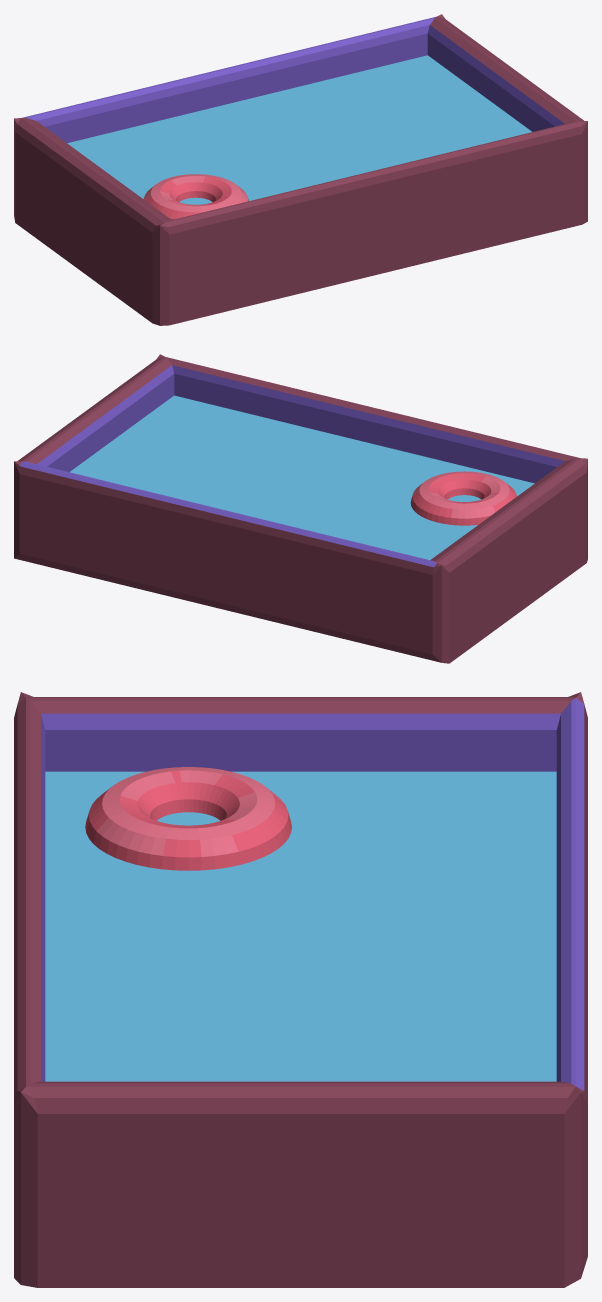
Rendered from Alberca.fbx.
The picture shows the model from 3 angles, top to bottom: view 1: azimuth 30°, elevation 25°; view 2: azimuth 150°, elevation 25°; view 3: azimuth 270°, elevation 25°; orthographic projection. The views are drawn at different scales.
Visible parts, largest first — view 1: Alberca; view 2: Alberca; view 3: Alberca.
Part boxes in pixels (box(x1,y1,x2,y2)): Alberca: box(14, 14, 587, 325); Alberca: box(14, 354, 587, 663); Alberca: box(14, 692, 587, 1287).
Bounding box in the file's own units: 40477 × 8963 × 24182.
